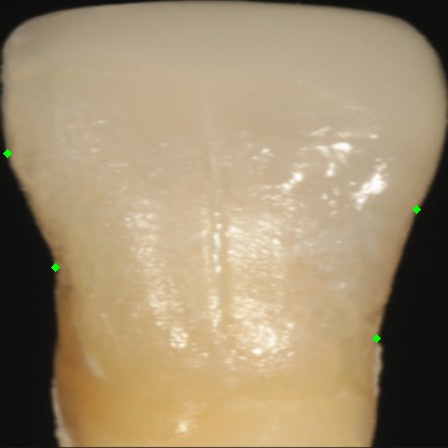coin_1: (376, 338, 396, 358)
coin_2: (416, 209, 436, 229)
coin_3: (55, 267, 75, 287)
coin_4: (7, 153, 27, 173)
